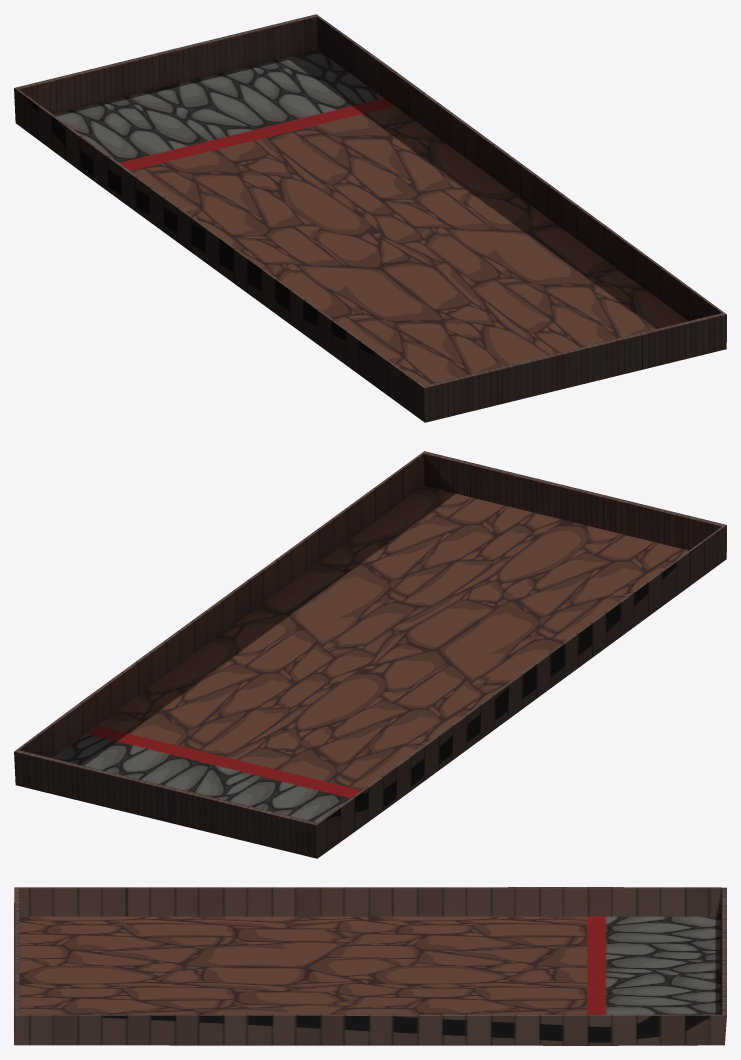
File: ground.fbx
3 renders of one model, top to bottom at view 1: azimuth 30°, elevation 25°; view 2: azimuth 150°, elevation 25°; view 3: azimuth 270°, elevation 25°, orthographic. The views are drawn at different scales.
Parts seen in each view (by area): view 1: Plane; view 2: Plane; view 3: Plane.
Part boxes in pixels (left/top/right/bottom): Plane: left=14, top=14, right=726, bottom=422; Plane: left=14, top=451, right=726, bottom=858; Plane: left=14, top=887, right=726, bottom=1045.
Bounding box in the file's own units: 605 × 66.23 × 1415.
1 material, 1 textured.
